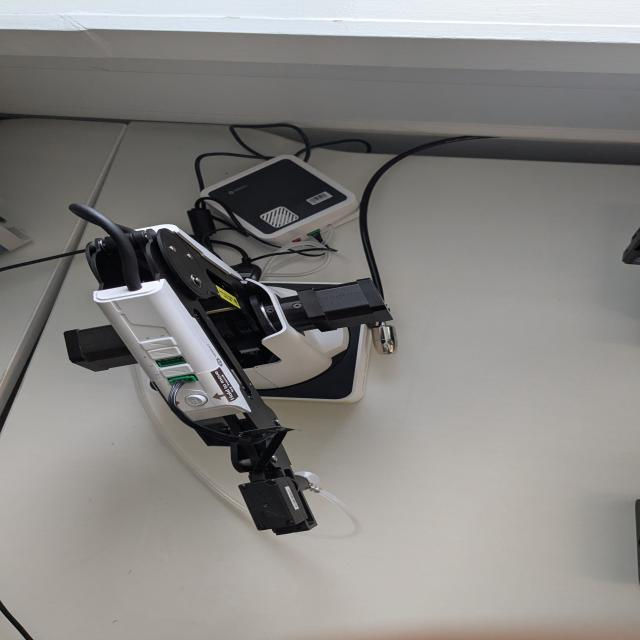Robot-end-effector-HF8z: (229, 468, 331, 539)
